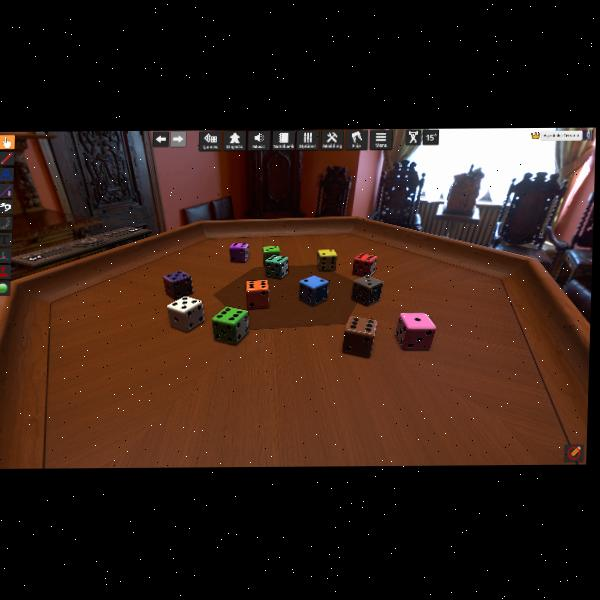d6: (398, 313, 438, 351), (341, 316, 377, 357), (211, 307, 248, 345), (167, 295, 205, 332), (351, 274, 383, 307), (162, 270, 193, 299), (297, 274, 325, 305), (245, 280, 270, 310), (352, 253, 376, 278), (263, 253, 287, 278), (315, 248, 335, 271), (229, 242, 250, 263), (263, 244, 280, 265)
